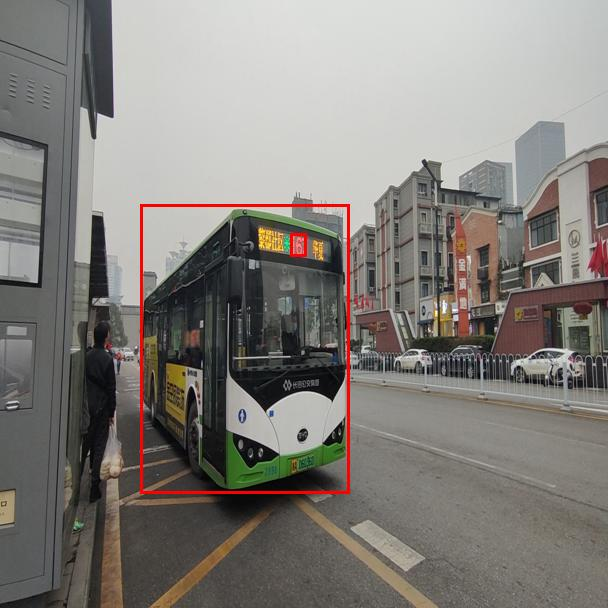bus: (140, 204, 349, 493)
screen: (290, 233, 306, 256)
